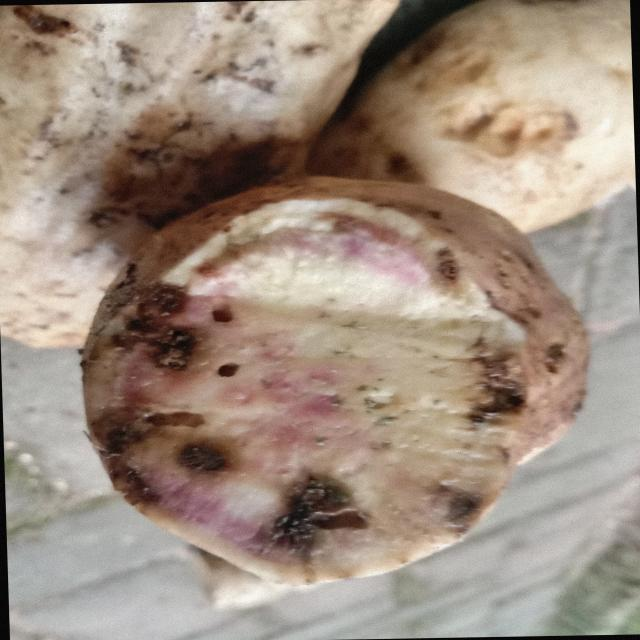Sick Sweet Potato_Tuber Rot: (83, 199, 525, 582)
